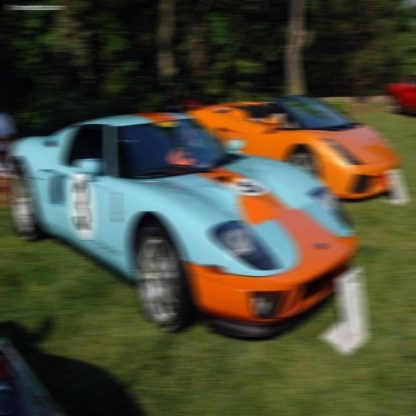Vehicle: (11, 111, 357, 345)
